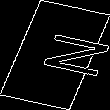N_W: (13, 29, 97, 81)
